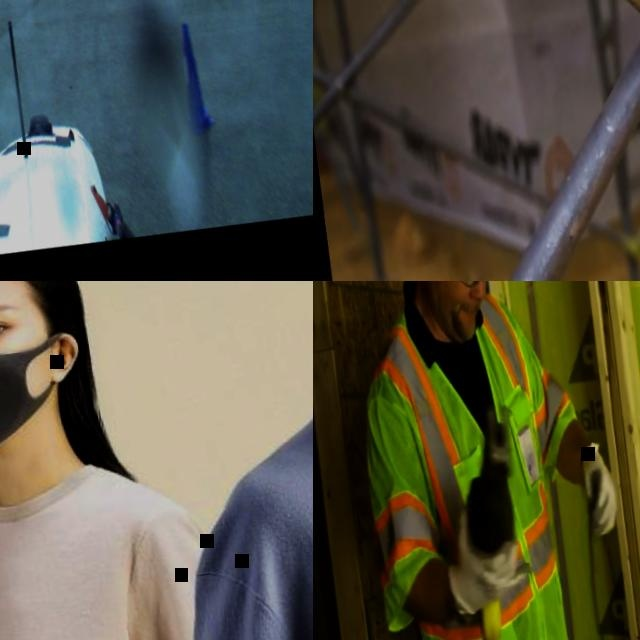Mask: (0, 327, 91, 463)
NO-Mask: (435, 296, 479, 344)
NO-Safety Vest: (0, 468, 184, 640)
Person: (317, 281, 640, 640), (0, 281, 241, 640), (102, 281, 313, 640)
Safety Cone: (171, 19, 219, 136)
Safety Vest: (341, 281, 611, 640)
